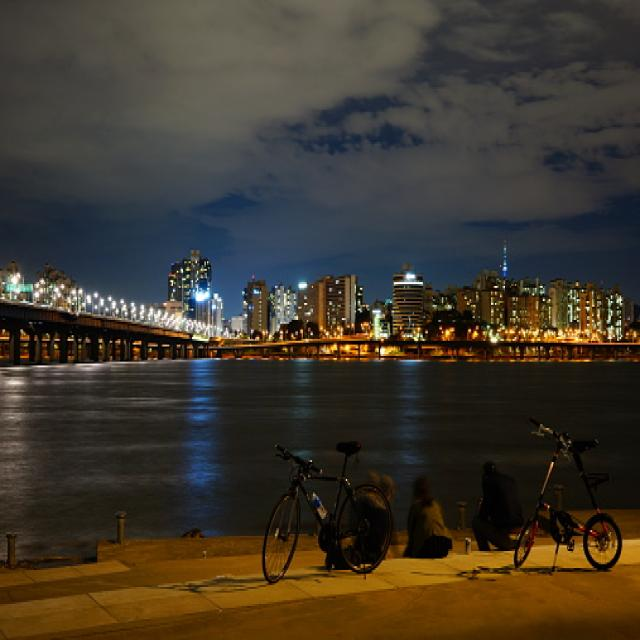Bicycle: (518, 392, 640, 577), (260, 432, 385, 589)
People: (457, 435, 520, 563), (402, 464, 449, 574)
